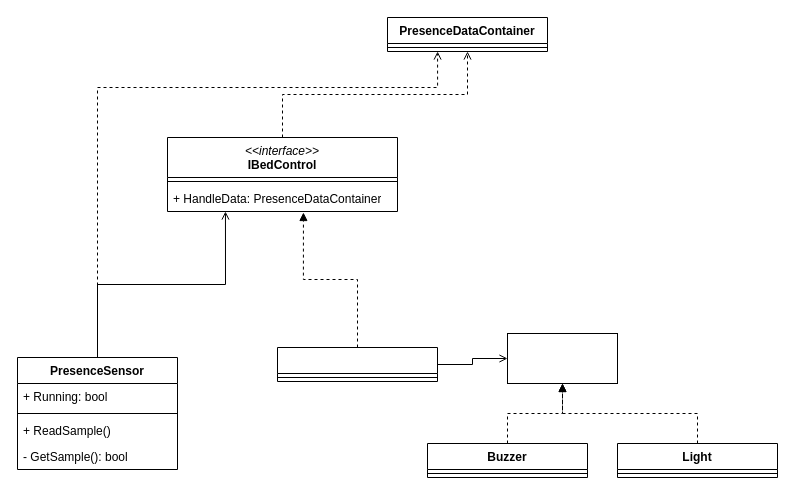
This 795x495 diagram has some shape labels left out. The shapes that lost their labels are listed below. From the top down, each one's centre as x and y in pixels, then its label:
At point 357,364: "BedControl".
At point 562,358: "«interface» IAlarm".
